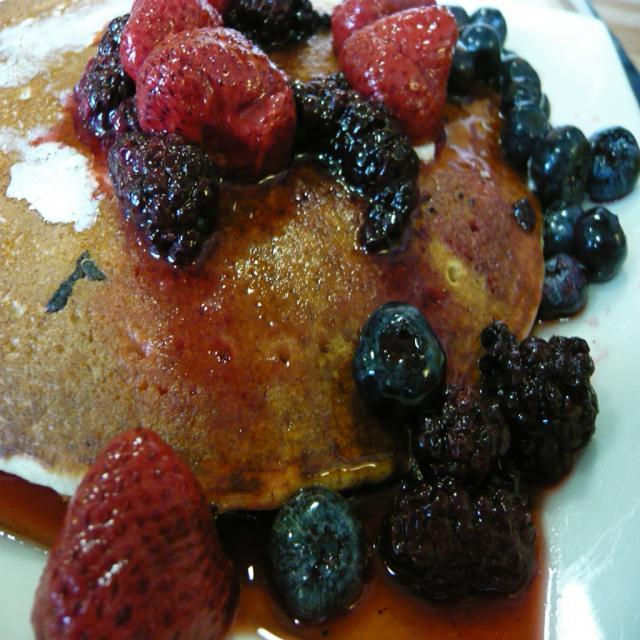Pancake: (0, 0, 546, 506)
